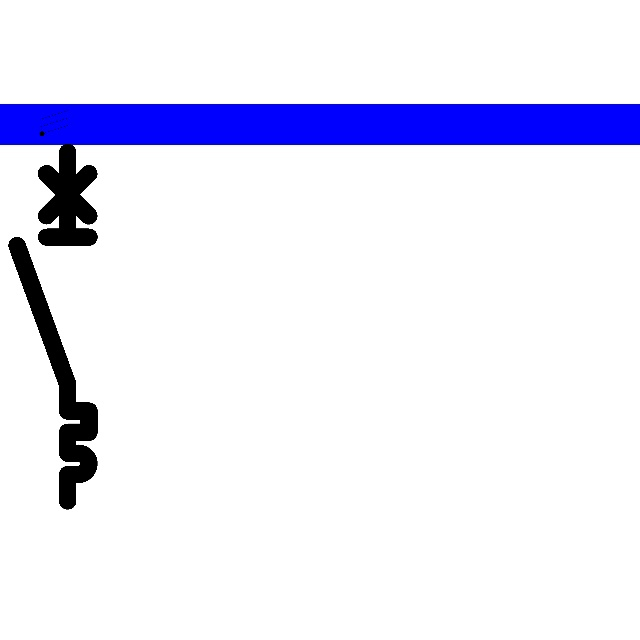interruptor_termomagnetico: (8, 143, 98, 510)
